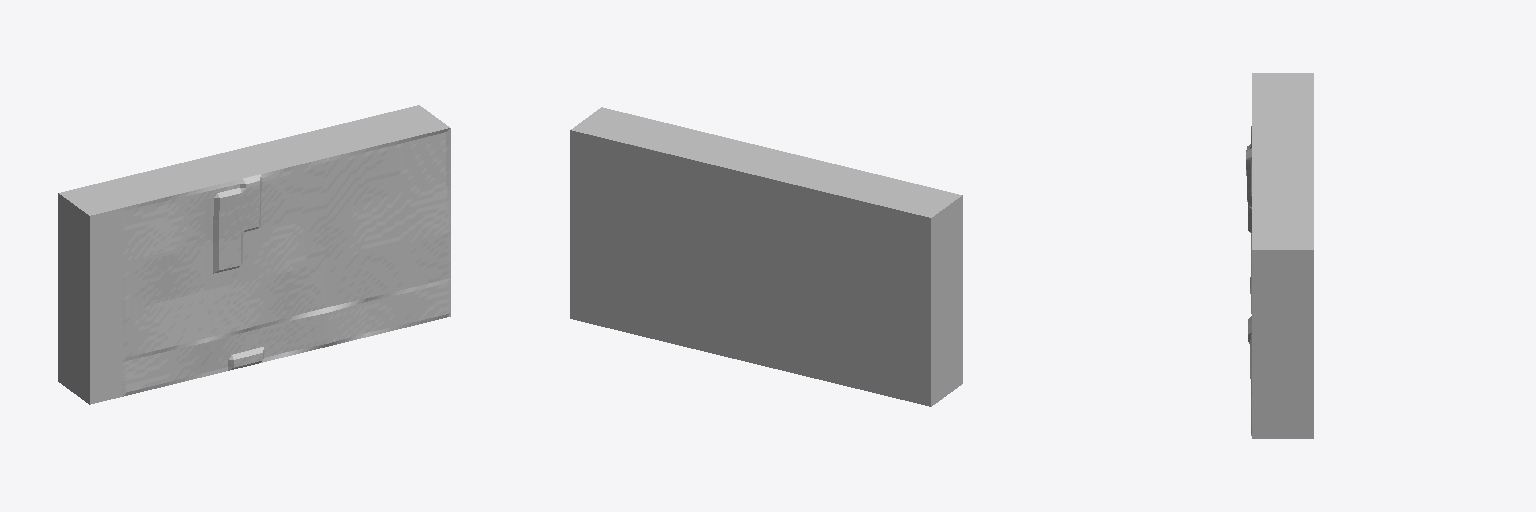
Rendered from rectangular_prism_bumps_0_7.obj.
3 renders of one model, left to right at view 1: azimuth 30°, elevation 25°; view 2: azimuth 150°, elevation 25°; view 3: azimuth 270°, elevation 25°, orthographic.
Bounding box in the file's own units: 10 × 5 × 1.65.